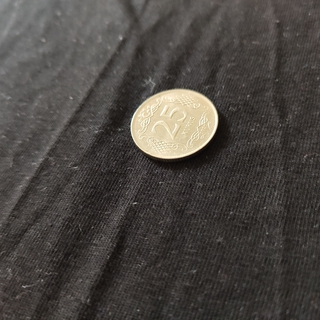25KURUS: (129, 86, 219, 162)
